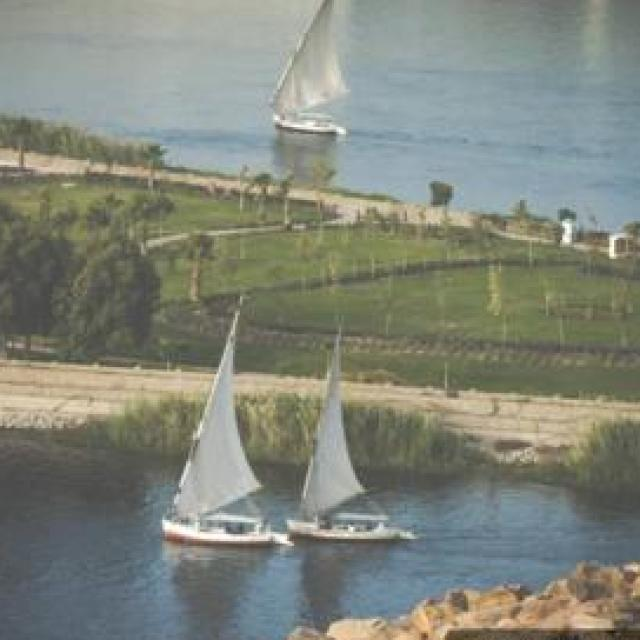sailboat: (158, 296, 282, 547), (289, 318, 412, 540), (268, 0, 358, 132)
